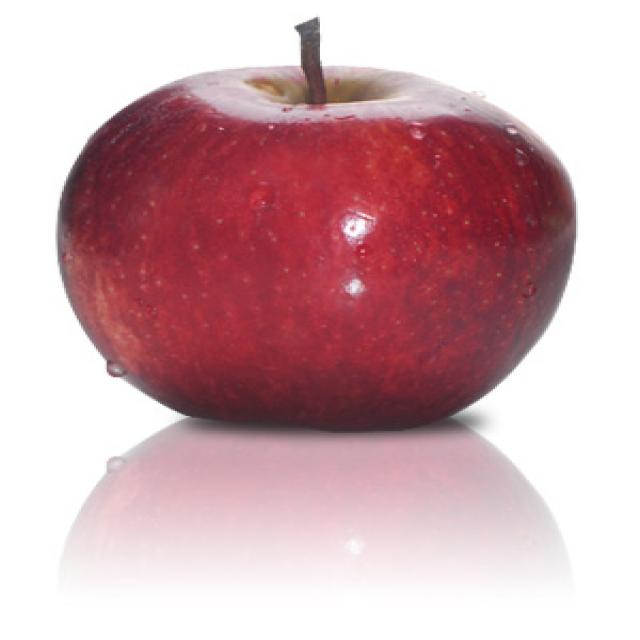Apple: (43, 15, 580, 430)
